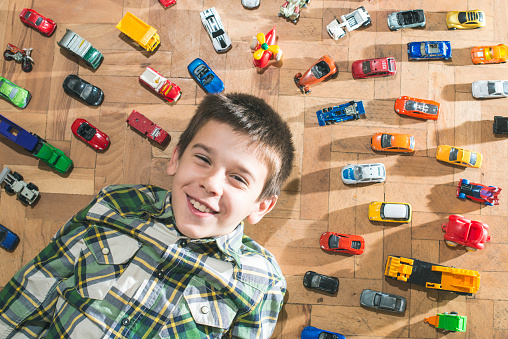deitado: (38, 102, 312, 339)
